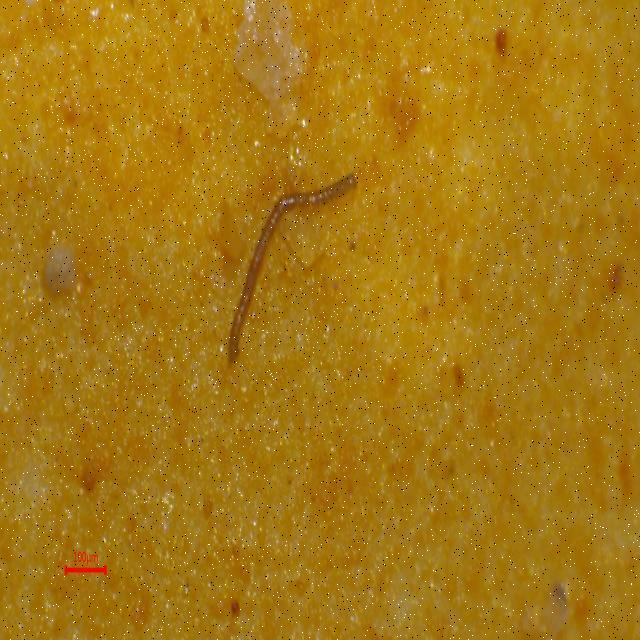Fibre: (214, 160, 366, 364)
